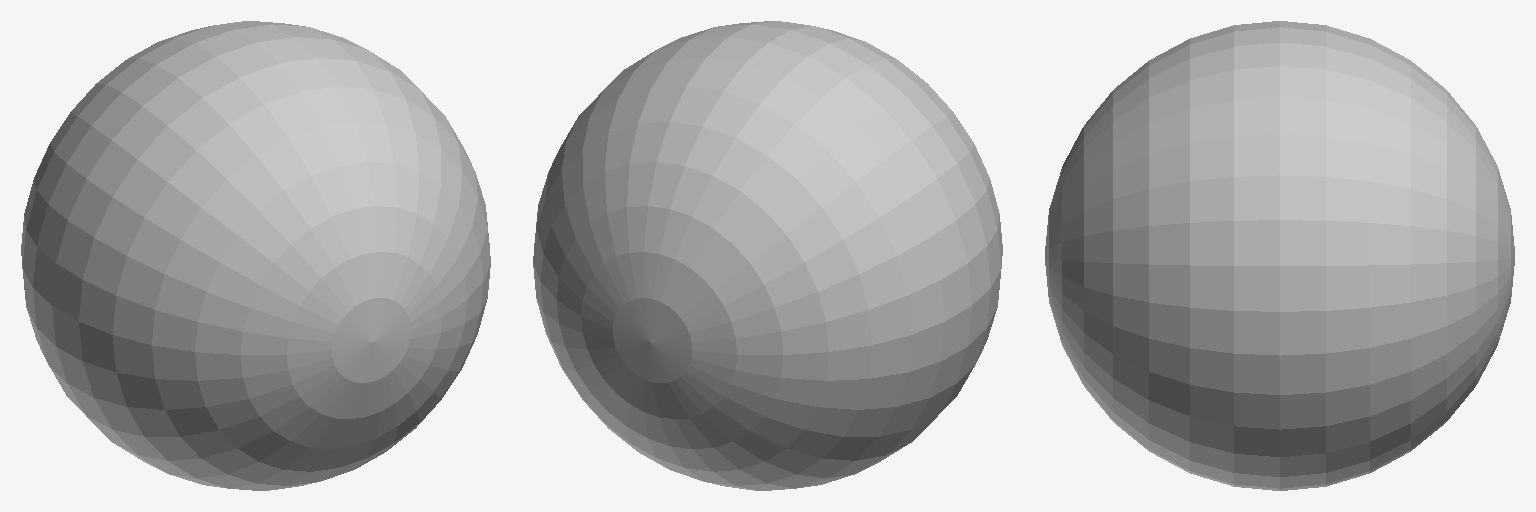
File: ball.obj
3 renders of one model, left to right at view 1: azimuth 30°, elevation 25°; view 2: azimuth 150°, elevation 25°; view 3: azimuth 270°, elevation 25°, orthographic.
Parts seen in each view (by area): view 1: Sphere; view 2: Sphere; view 3: Sphere.
Boxes of the visible parts, x1=… form: Sphere: x1=21, y1=21, x2=490, y2=490; Sphere: x1=533, y1=21, x2=1002, y2=490; Sphere: x1=1045, y1=21, x2=1514, y2=490.
Size of the model in its own units: 0.5 by 0.5 by 0.5.